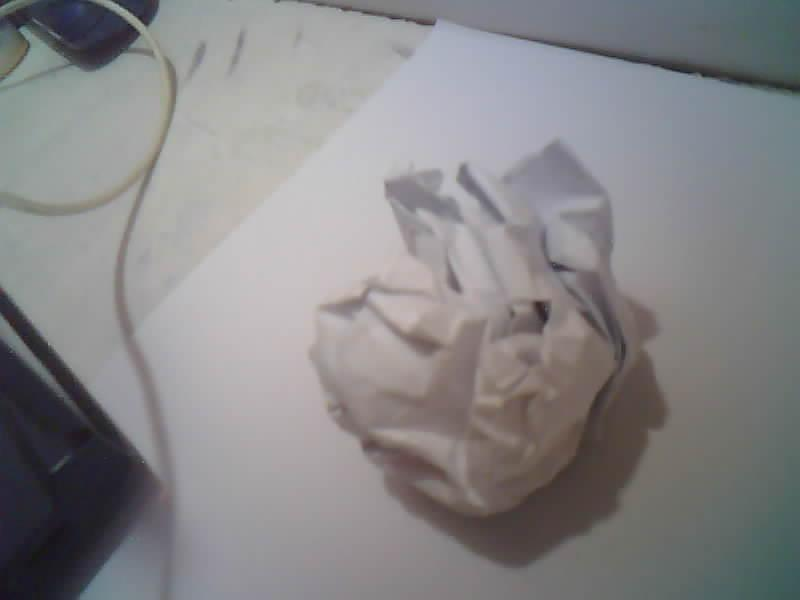biodegradable: (311, 143, 629, 515)
